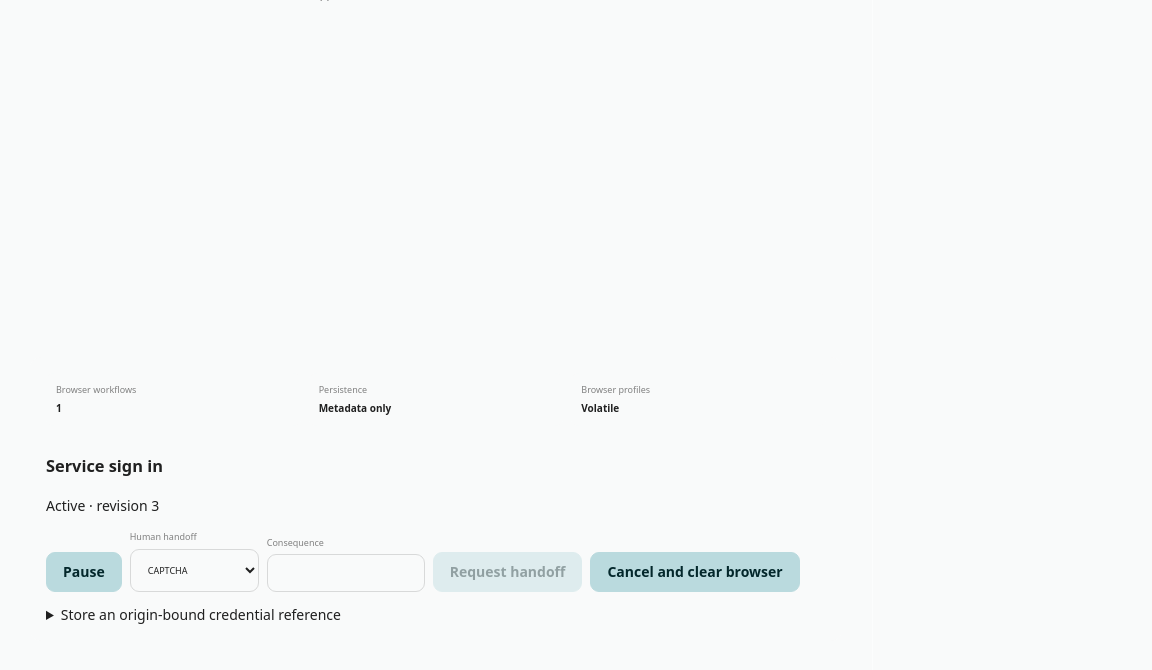
Test case: Computer stage › shows supervised workflow status and routes lifecycle controls through the shared protocol
This screenshot has width=1152, height=670.
(page scrolled)
Expected: the heading "Service sign in" is shown, left=46, top=455, right=163, bottom=477
Expected: the text "Active · revision 3" is shown, left=46, top=496, right=159, bottom=515
What coordinates should you click on to do the following:
click the button "Pause"
I would click on:
 (84, 572)
Its box is left=46, top=552, right=122, bottom=592.
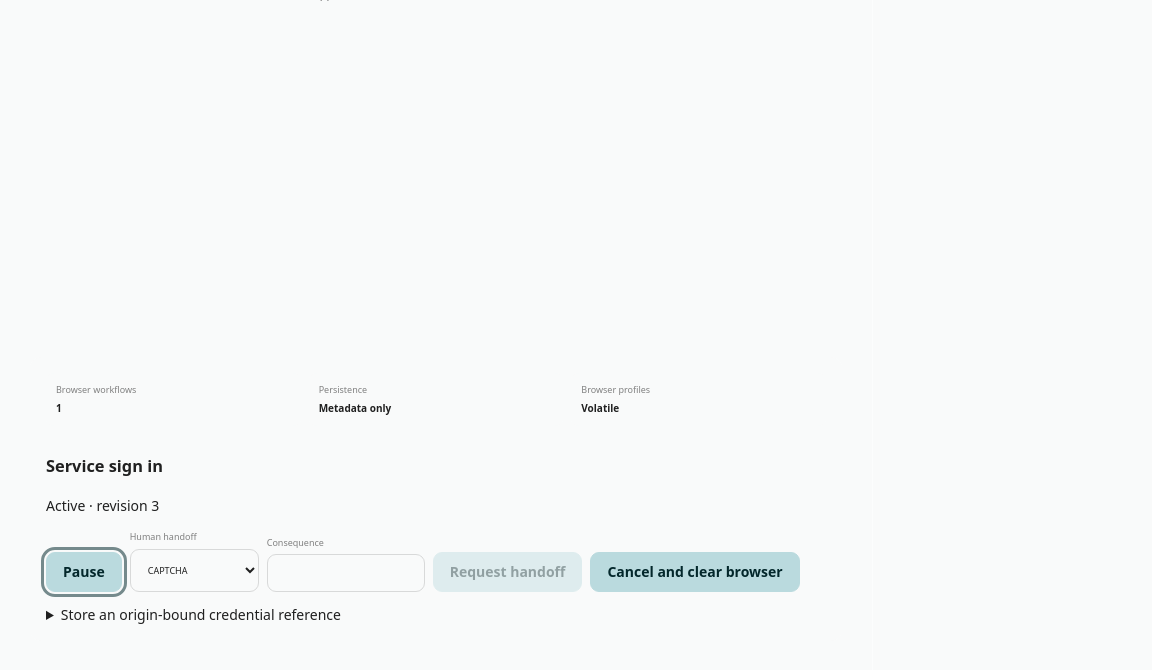
What coordinates should you click on to do the following:
click the heading "Store an origin-bound credential reference"
I would click on:
 (201, 614)
Its box is left=61, top=605, right=341, bottom=624.
(page scrolled)
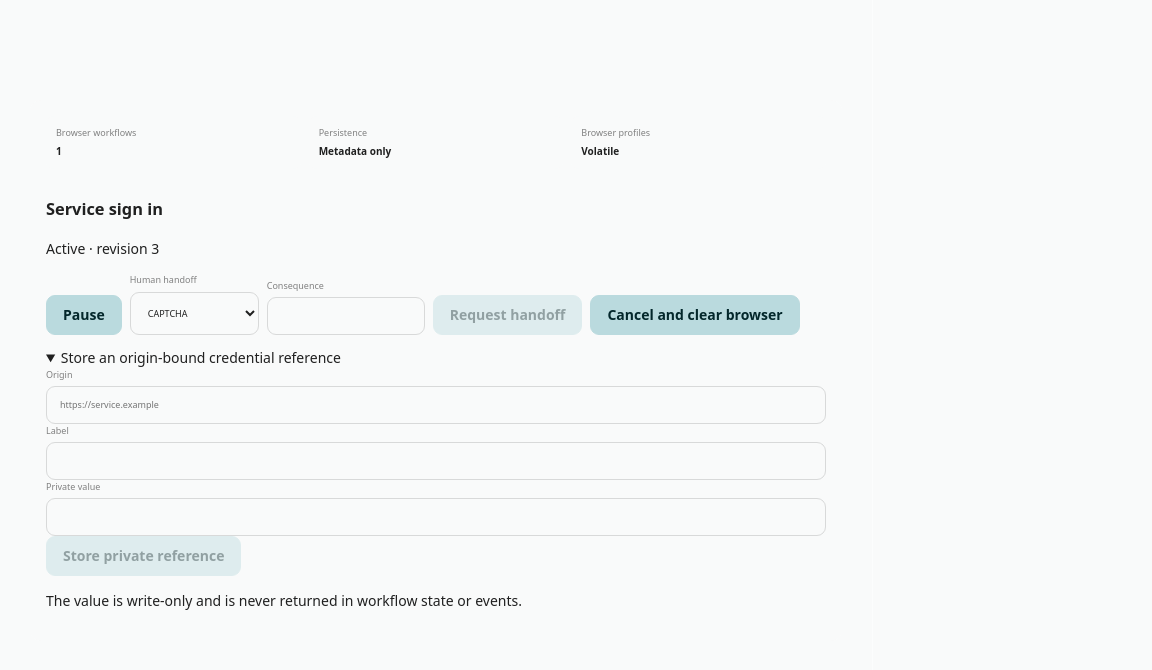
Now the text "write-only and is never returned" is shown, box left=46, top=591, right=522, bottom=610
